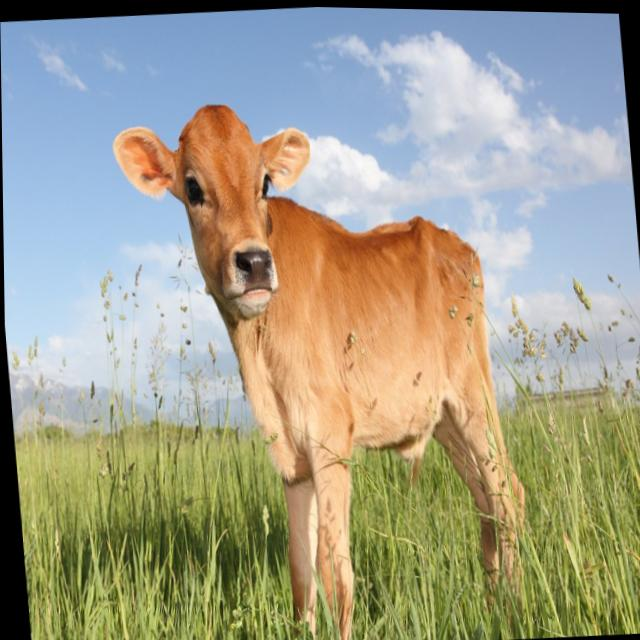cowFace: (108, 92, 326, 334)
